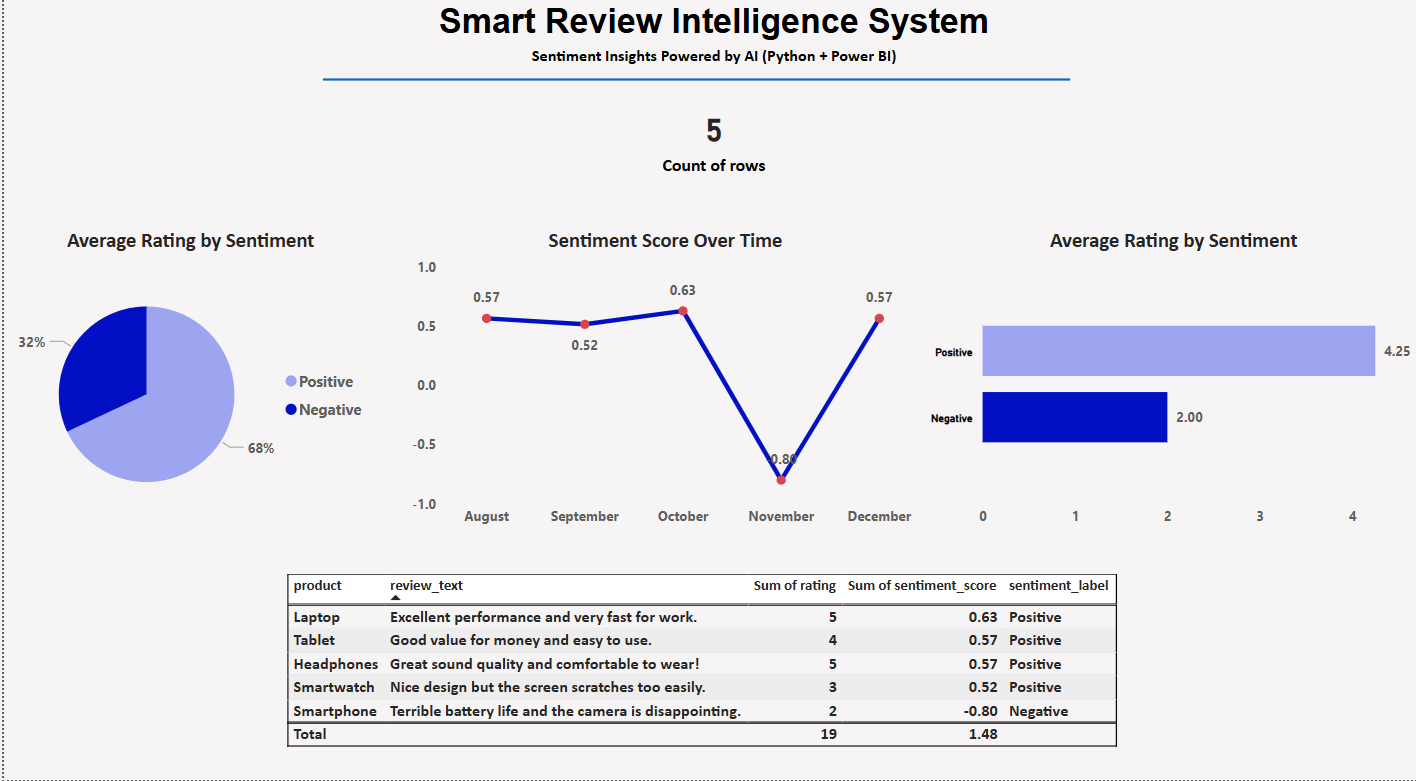

This screenshot's page, from the dashboard's own definition file:
{"tool":"powerbi","page":{"name":"Page 1","canvas":[1280,720],"ordinal":0},"visuals":[{"type":"pieChart","title":"Average Rating by Sentiment","fields":{"Category":["sentiment_output.sentiment_label"],"Y":["Avg(sentiment_output.rating)"]},"box":[0,220.4,336.6,279.7],"z":0},{"type":"lineChart","title":" Sentiment Score Over Time","fields":{"Category":["sentiment_output.review_date.Variation.Date Hierarchy.Year","sentiment_output.review_date.Variation.Date Hierarchy.Quarter","sentiment_output.review_date.Variation.Date Hierarchy.Month","sentiment_output.review_date.Variation.Date Hierarchy.Day"],"Y":["Avg(sentiment_output.sentiment_score)"]},"box":[362.7,220.4,467,279.7],"z":1000},{"type":"clusteredBarChart","title":"Average Rating by Sentiment","fields":{"Category":["sentiment_output.sentiment_label"],"Y":["Avg(sentiment_output.rating)"]},"box":[829.6,220.4,450.4,279.7],"z":2000},{"type":"tableEx","fields":{"Values":["sentiment_output.product","sentiment_output.review_text","Sum(sentiment_output.rating)","Sum(sentiment_output.sentiment_score)","sentiment_output.sentiment_label"]},"box":[249.1,529.1,781.7,190.9],"z":3000},{"type":"shape","title":"Smart Review Intelligence System","box":[0,18,1280.4,62],"z":4000},{"type":"card","fields":{"Values":["CountNonNull(sentiment_output.review_text)"]},"box":[571.3,96,137.5,92.4],"z":5000},{"type":"shape","box":[287.4,80,674,15.8],"z":6000}]}

Visuals, with their boxes in screenshot pixels (x1, y1, x2, y2), scaled from the page's 1280x720 canvas onto the 1416x781 screenshot:
"Average Rating by Sentiment" pieChart: <box>0,239,372,542</box>
" Sentiment Score Over Time" lineChart: <box>401,239,918,542</box>
"Average Rating by Sentiment" clusteredBarChart: <box>918,239,1415,542</box>
tableEx - sentiment_output.product x sentiment_output.review_text: <box>276,574,1140,780</box>
"Smart Review Intelligence System" shape: <box>0,20,1415,87</box>
card - CountNonNull(sentiment_output.review_text): <box>632,104,784,204</box>
shape: <box>318,87,1064,104</box>
